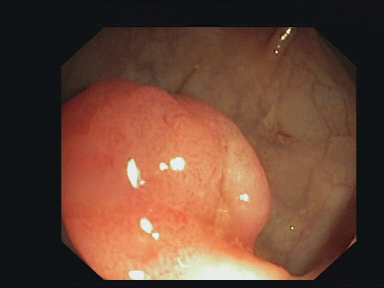polyp: (57, 70, 290, 270)
